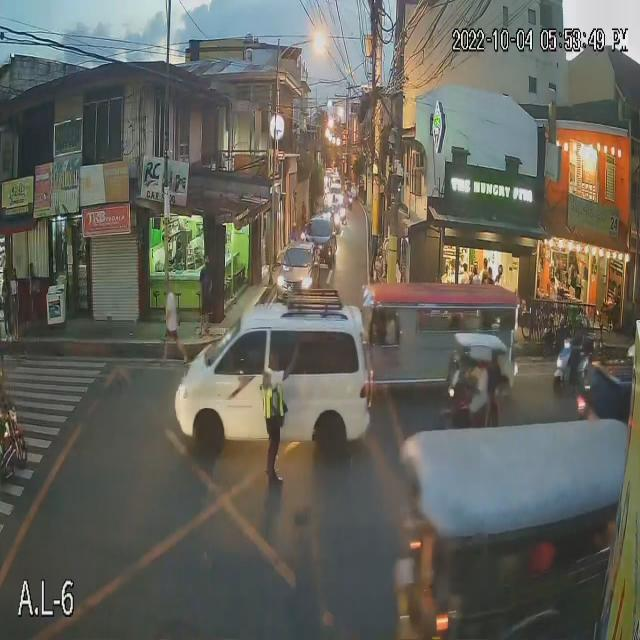helmet: (575, 314, 584, 329)
motorcycle: (551, 337, 596, 393)
rider: (573, 329, 586, 384)
